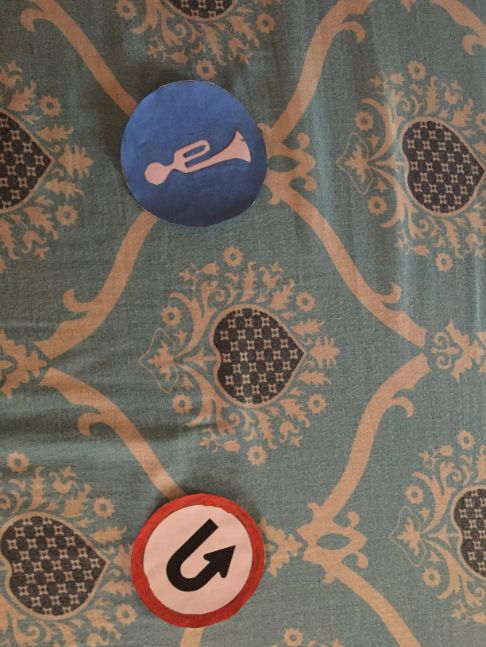blow-horn: (117, 78, 264, 225)
u-turn: (131, 495, 260, 624)
